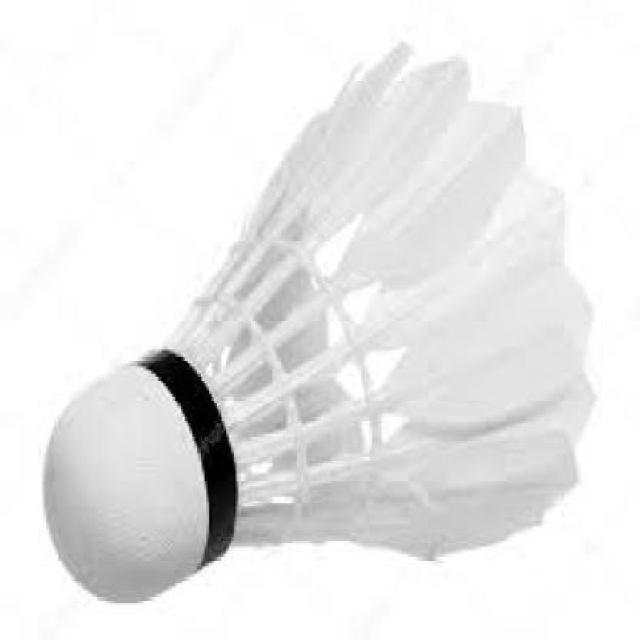Shuttlecock: (40, 37, 603, 609)
